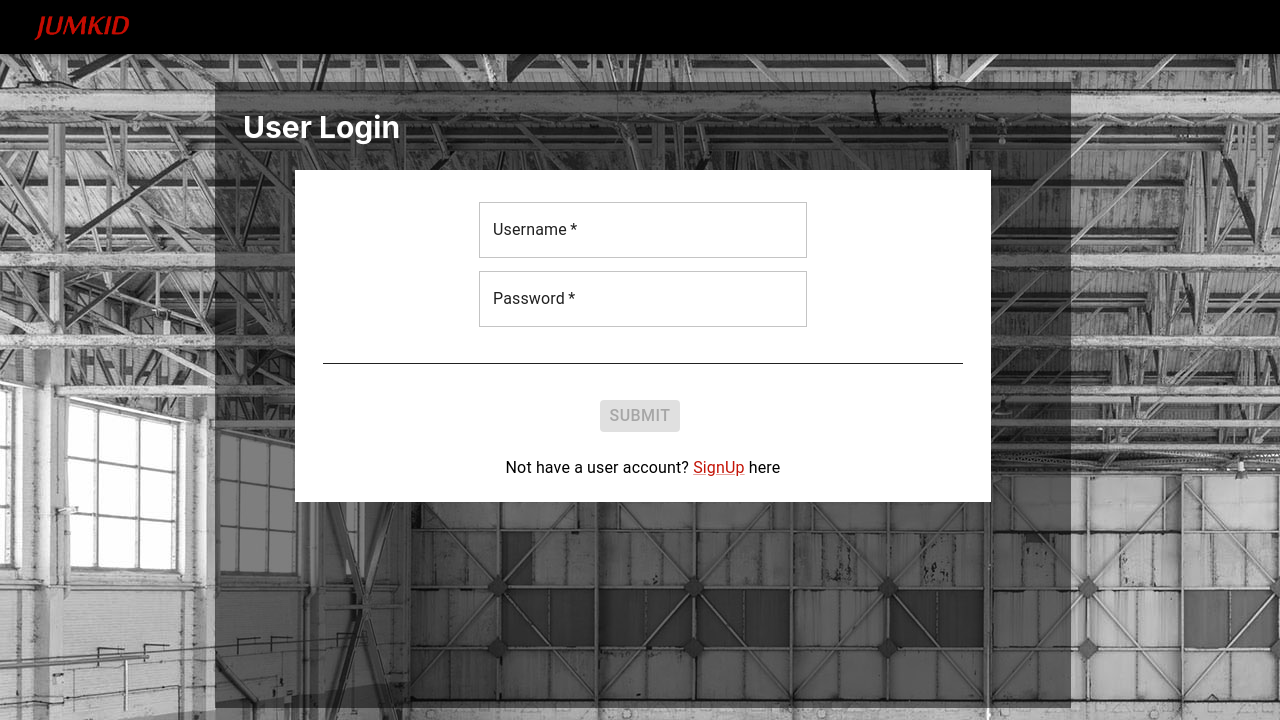
Test case: UserLogin › Should be able to submit if username and password are filled
The width and height of the screenshot is (1280, 720).
Type "test" into the field labelled "Username *". click: (643, 230)
box: [479,202,807,258]
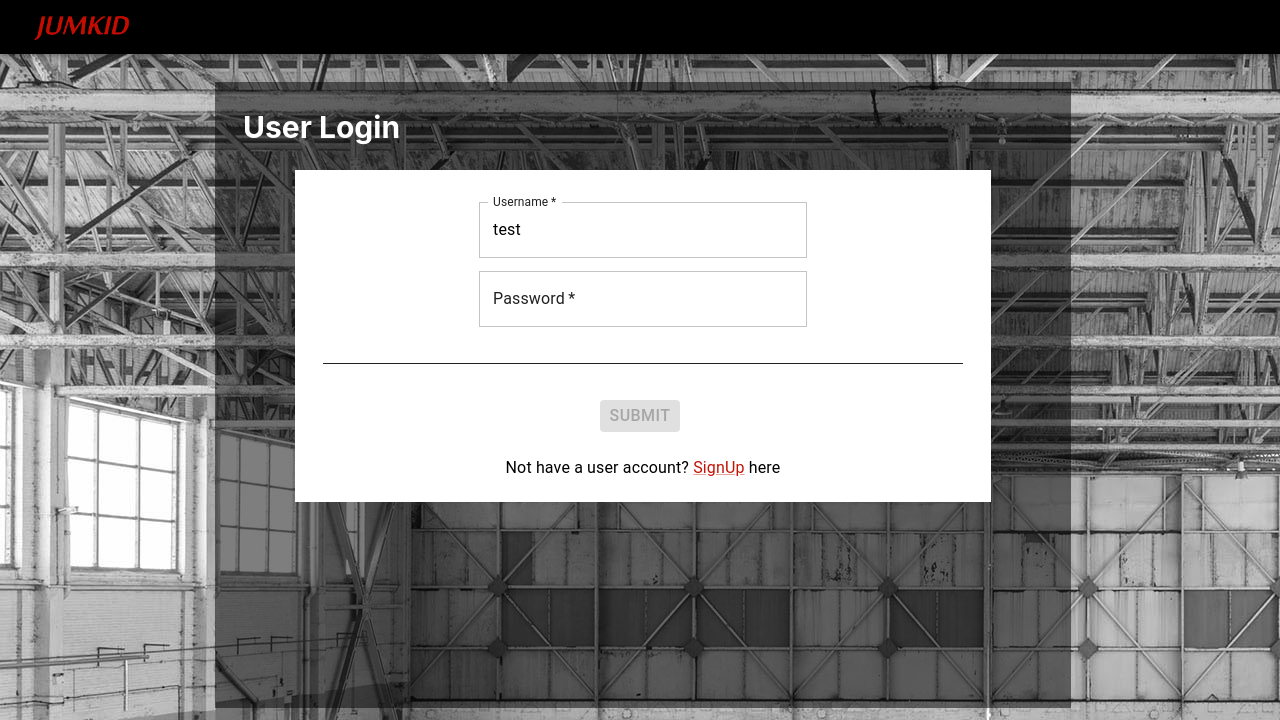
Type "pass" into the password field with test id "password". click: (643, 299)
box: [479,271,807,327]
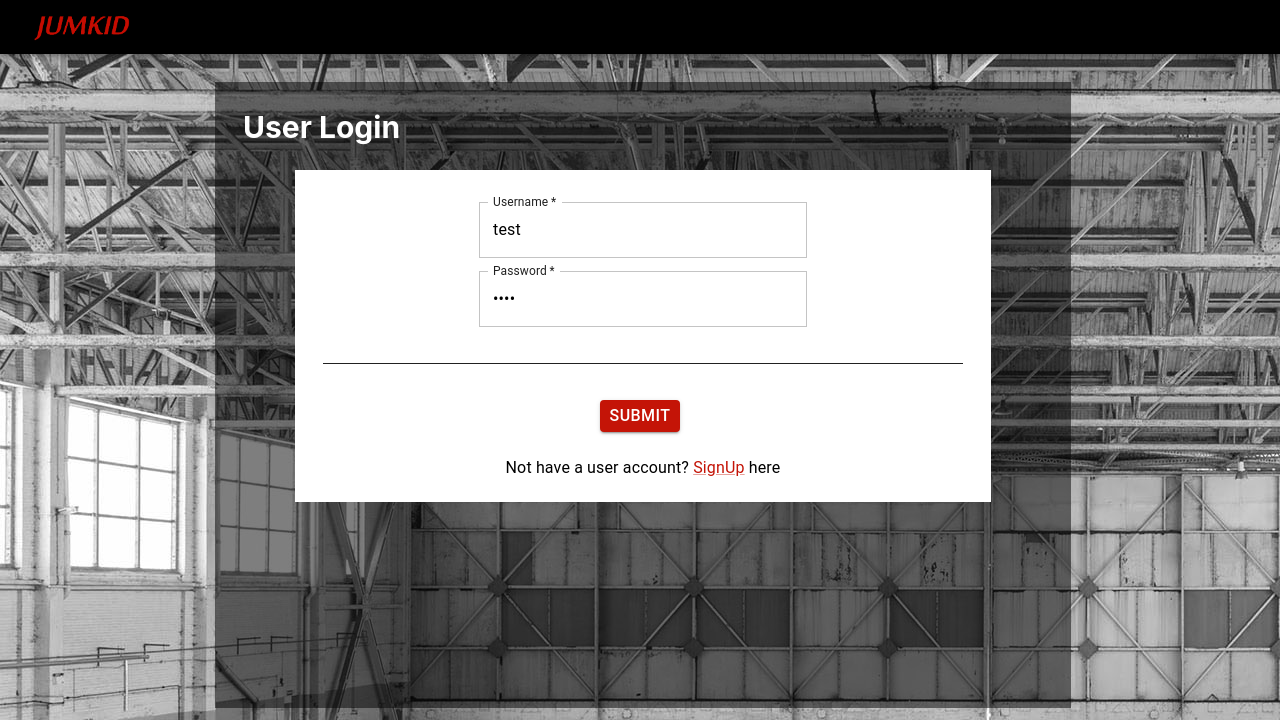
Check: the button "Submit" is enabled, box [600,400,680,432]
